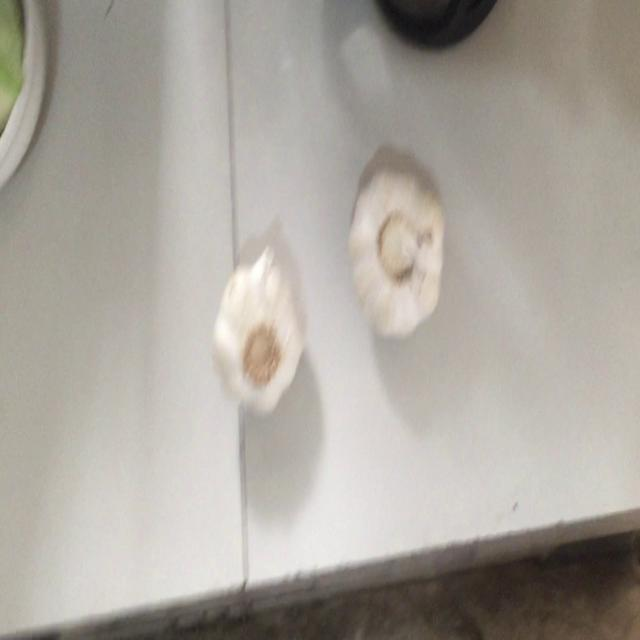garlic: (342, 160, 445, 350), (210, 246, 304, 415)
